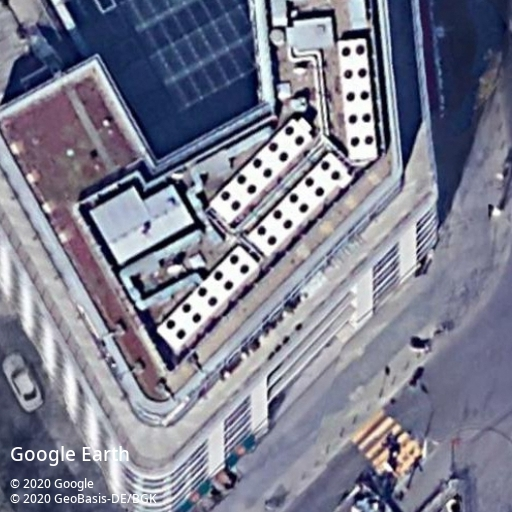Chiller: (209, 116, 314, 224), (156, 245, 259, 354), (247, 152, 348, 257), (338, 36, 379, 161)
